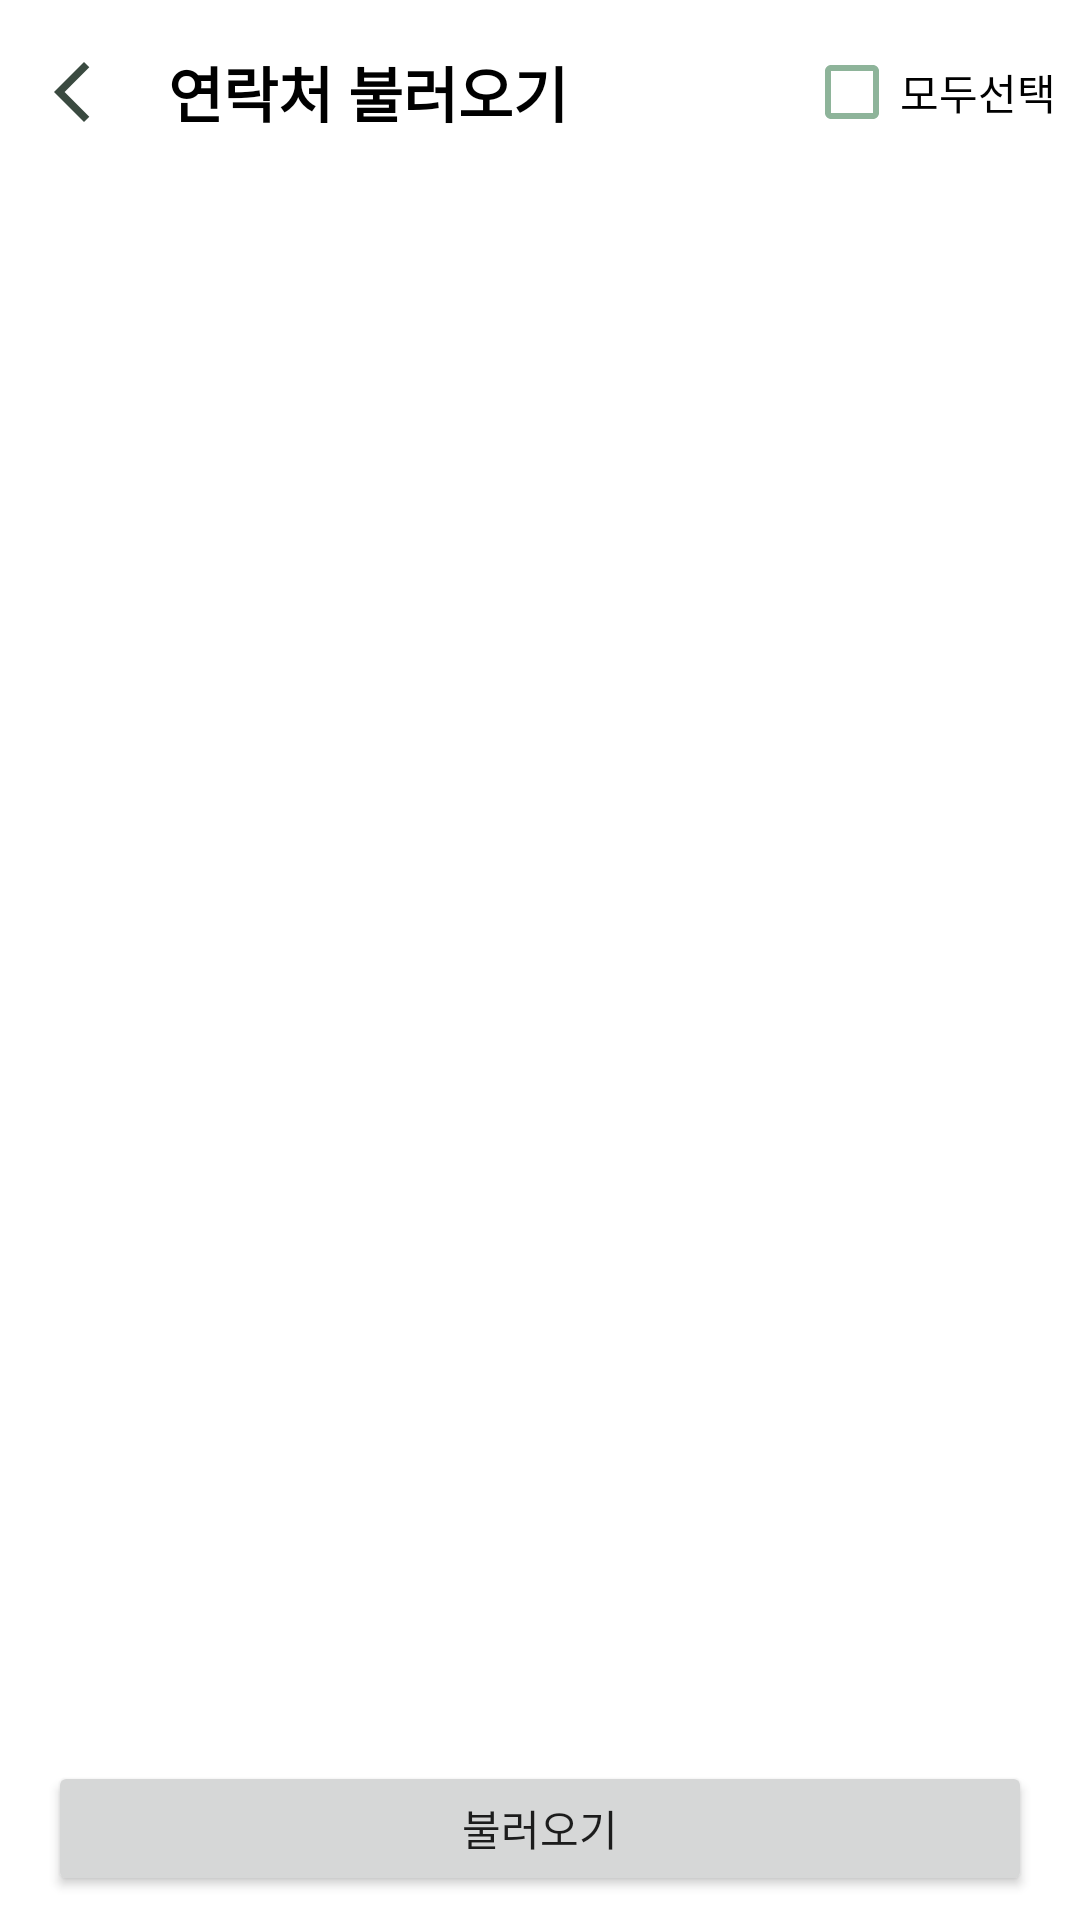

Screen size 1080 x 1920. Icon name, then its box in pixels as (x1, y1, x2, y2):
arrow back: (54, 62, 89, 122)
